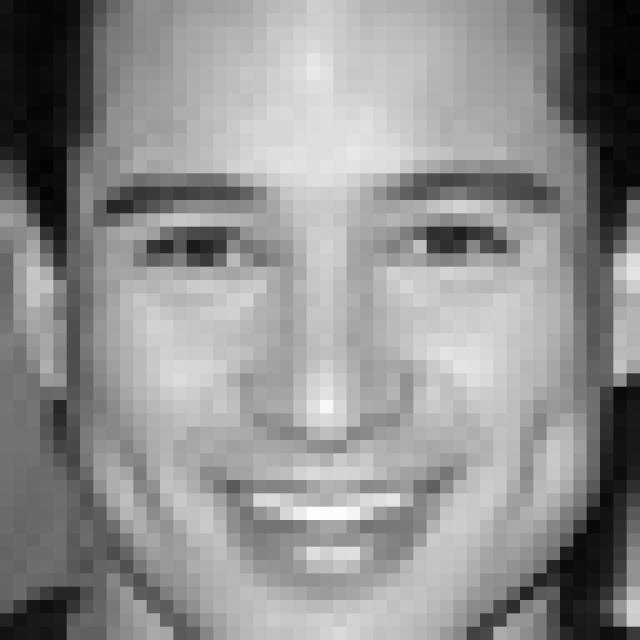happy: (89, 158, 562, 608)
